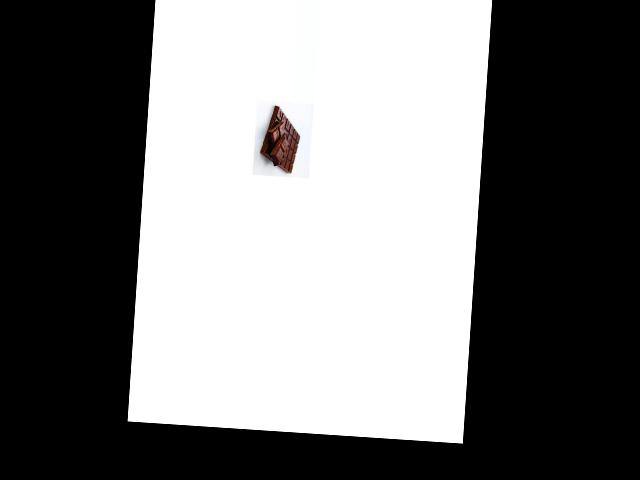chocolate: (255, 103, 305, 174)
